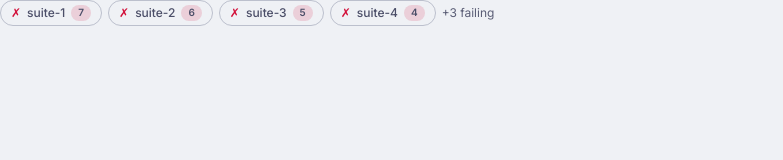
Scenario: RunSuiteChips › caps the visible chips and reveals the rest on demand
Check: the number of links with test id "run-suite-chip" is 4, box 0,0 -> 102,26; 108,0 -> 213,26; 219,0 -> 324,26; 330,0 -> 436,26
Click the button with test id "run-suite-chips-more".
click(468, 13)  # box 442,5 -> 494,21
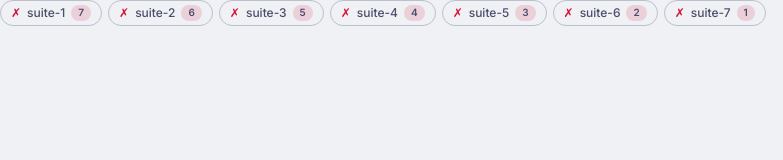
Check: the number of links with test id "run-suite-chip" is 7
